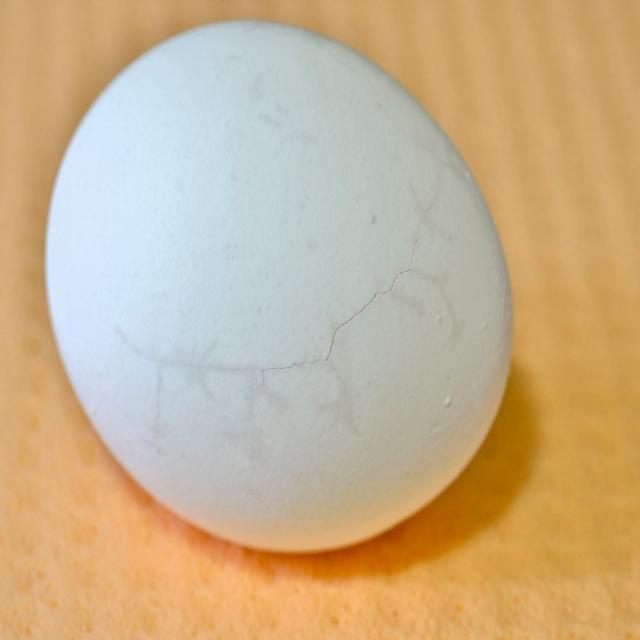biodegradable: (49, 21, 509, 538)
